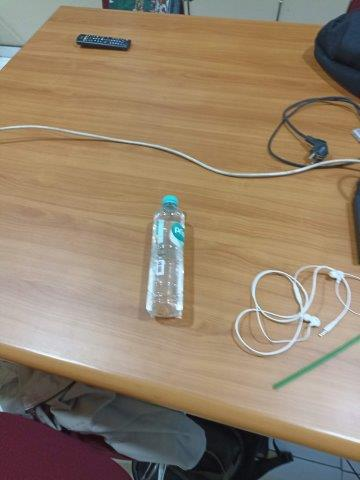botolplastik: (145, 194, 186, 316)
